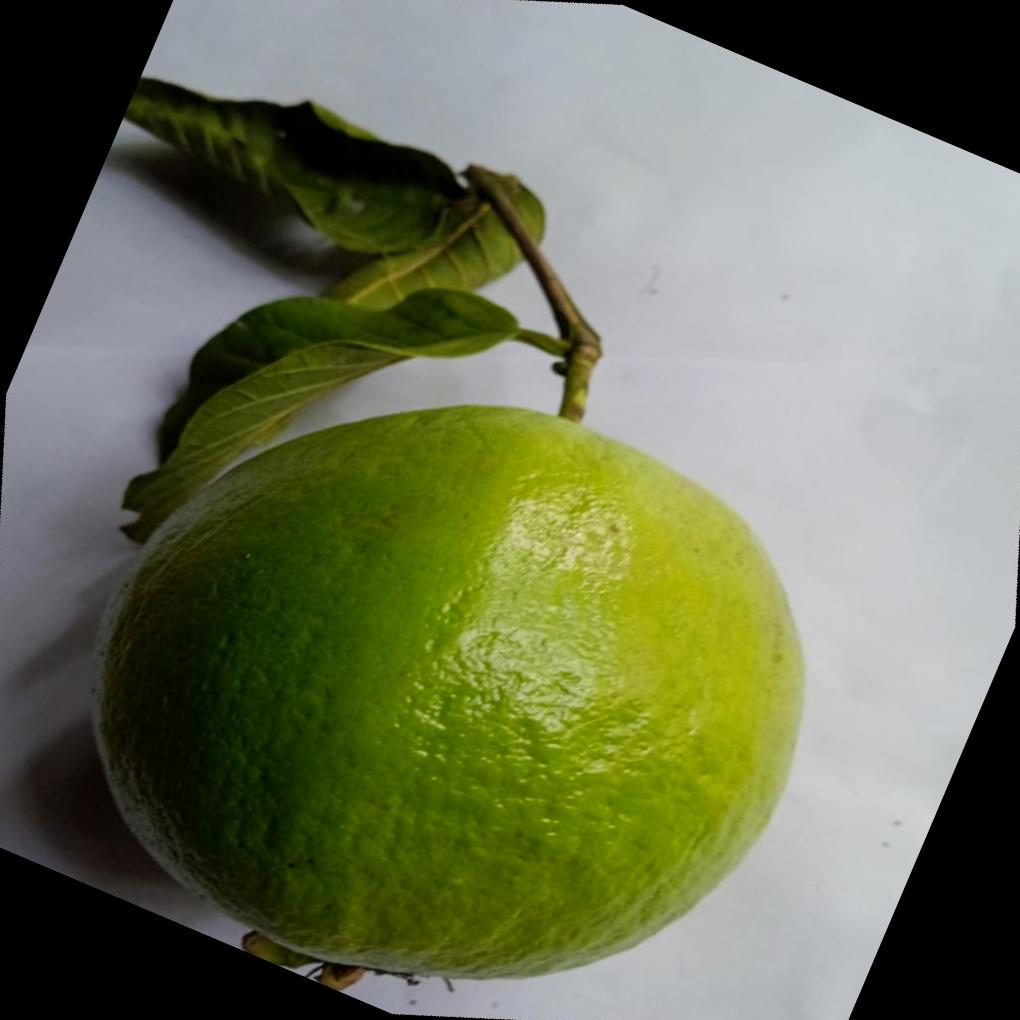FreshGuava: (87, 76, 812, 980)
